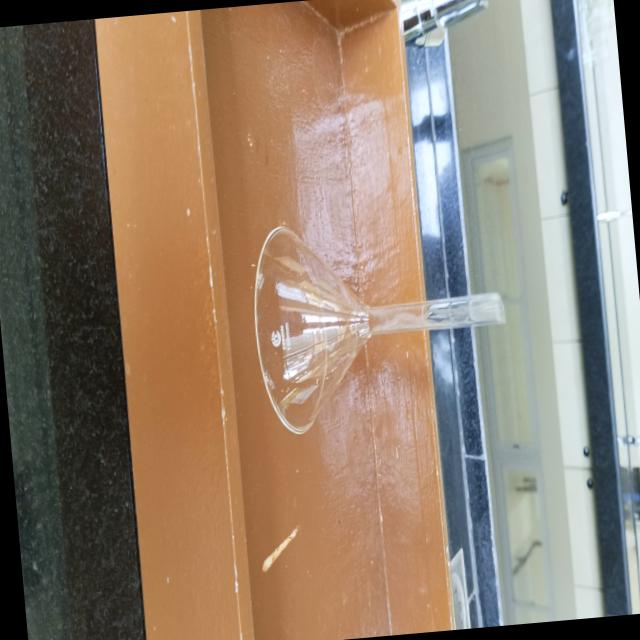funnel: (242, 200, 516, 444)
